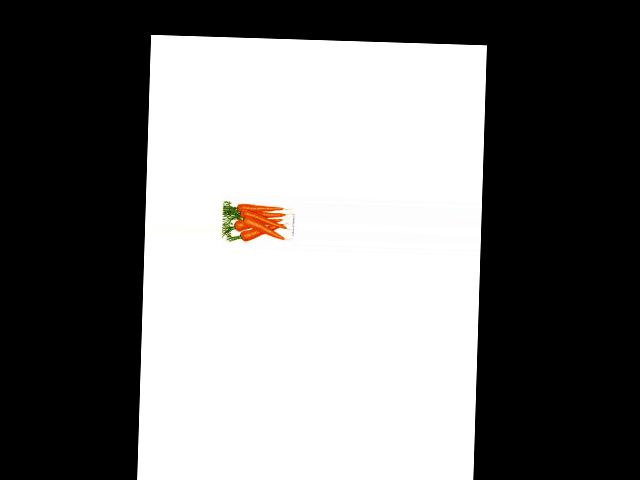carrot: (239, 209, 292, 224)
